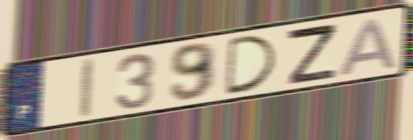3: (113, 51, 157, 111)
9: (166, 40, 222, 103)
A: (335, 15, 400, 78)
D: (224, 32, 280, 97)
I: (78, 55, 97, 121)
Z: (285, 22, 339, 87)
